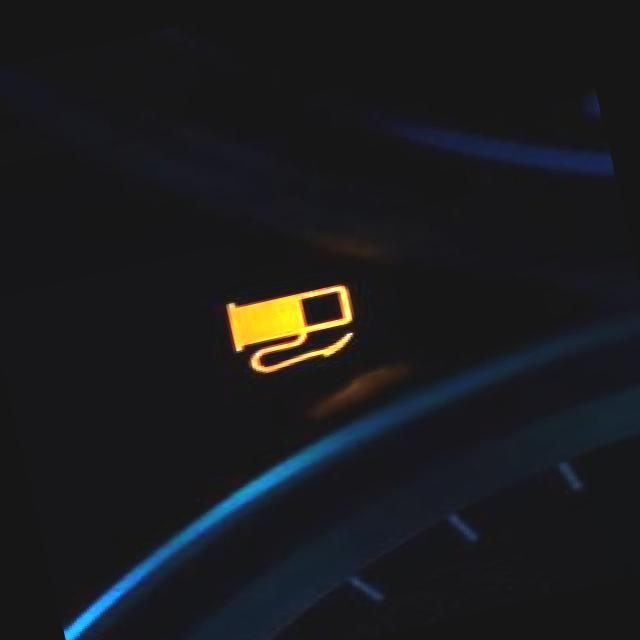kontrolka: (196, 234, 394, 403)
